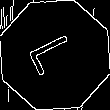L_NE: (26, 30, 84, 80)
